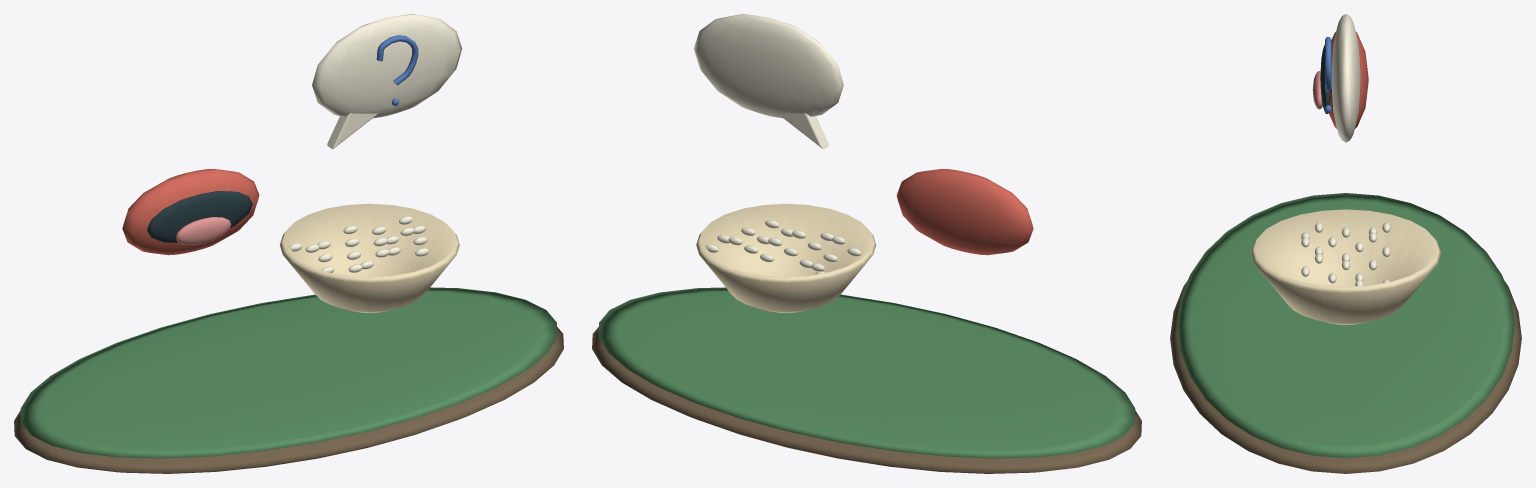
Rendered from eating.glb.
3 views of the same model, side by side, from view 1: azimuth 30°, elevation 25°; view 2: azimuth 150°, elevation 25°; view 3: azimuth 270°, elevation 25° (orthographic). The views are drawn at different scales.
Parts seen in each view (by area): view 1: eating_surface_01, eating_surface_05, eating_surface_07, eating_surface_00, eating_surface_02, eating_surface_03, eating_surface_04, eating_surface_06; view 2: eating_surface_01, eating_surface_05, eating_surface_07, eating_surface_00, eating_surface_02; view 3: eating_surface_01, eating_surface_07, eating_surface_00, eating_surface_05, eating_surface_02, eating_surface_06.
Part boxes in pixels (x1,y1,x2,y2): eating_surface_01: (20, 287, 557, 458); eating_surface_05: (289, 14, 462, 272); eating_surface_07: (279, 203, 459, 313); eating_surface_00: (14, 327, 563, 473); eating_surface_02: (122, 168, 259, 255); eating_surface_03: (147, 191, 252, 242); eating_surface_04: (175, 217, 231, 244); eating_surface_06: (376, 35, 418, 105); eating_surface_01: (598, 287, 1135, 458); eating_surface_05: (693, 14, 861, 274); eating_surface_07: (696, 203, 876, 313); eating_surface_00: (592, 327, 1141, 473); eating_surface_02: (896, 168, 1033, 255); eating_surface_01: (1177, 193, 1514, 458); eating_surface_07: (1251, 209, 1440, 324); eating_surface_00: (1170, 280, 1521, 473); eating_surface_05: (1301, 14, 1390, 286); eating_surface_02: (1329, 32, 1368, 128); eating_surface_06: (1324, 37, 1331, 113).
Bounding box in the file's own units: 4.56 × 2.97 × 2.5.
